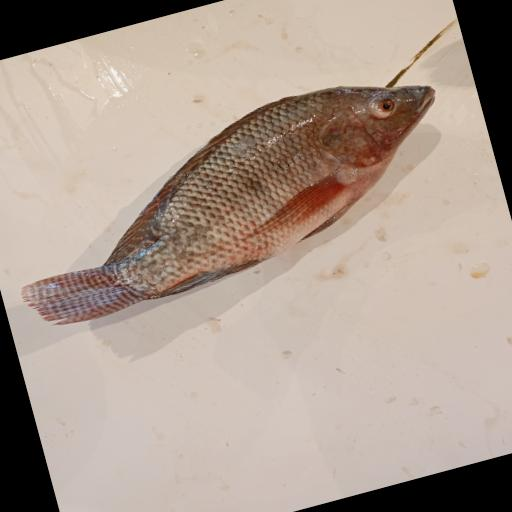Tilapia: (0, 59, 469, 336)
